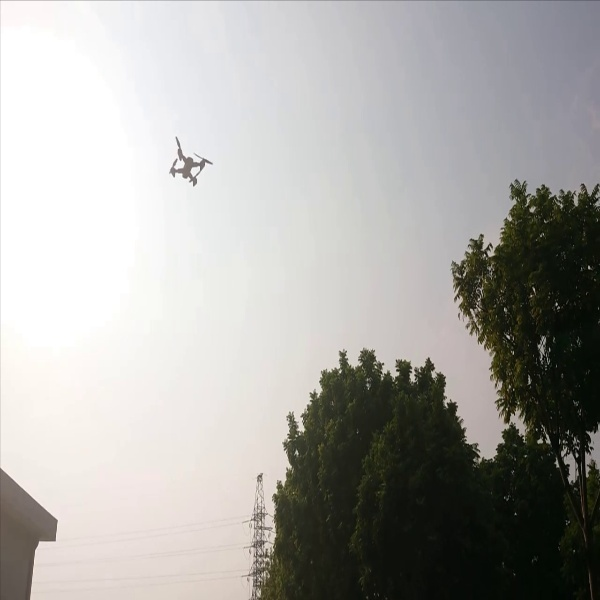drone: (165, 138, 219, 188)
